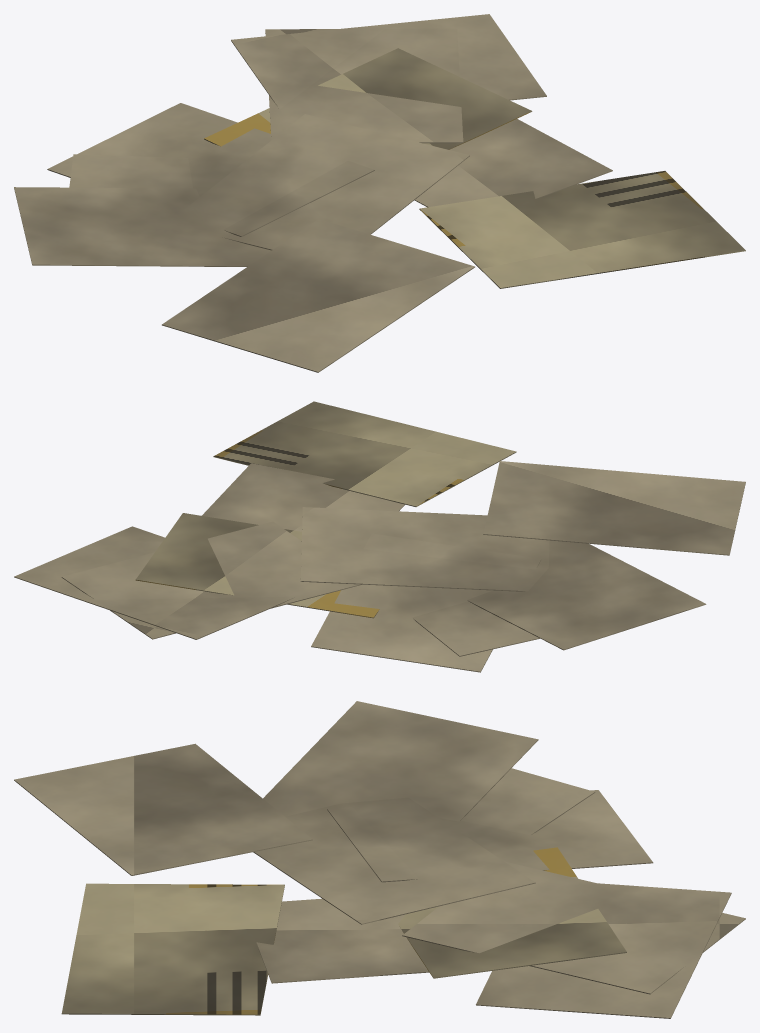
File: D01_scattered_papers_v2.glb
The picture shows the model from 3 angles, top to bottom: view 1: azimuth 30°, elevation 25°; view 2: azimuth 150°, elevation 25°; view 3: azimuth 270°, elevation 25°; orthographic projection. The views are drawn at different scales.
Visible parts, largest first — view 1: D01_scattered_papers_v2; view 2: D01_scattered_papers_v2; view 3: D01_scattered_papers_v2.
Part boxes in pixels (left/top/right/bottom): D01_scattered_papers_v2: left=14, top=14, right=745, bottom=372; D01_scattered_papers_v2: left=14, top=401, right=745, bottom=672; D01_scattered_papers_v2: left=14, top=701, right=745, bottom=1018.
Bounding box in the file's own units: 0.499 × 0.018 × 0.5.
2 materials, 2 textured.
